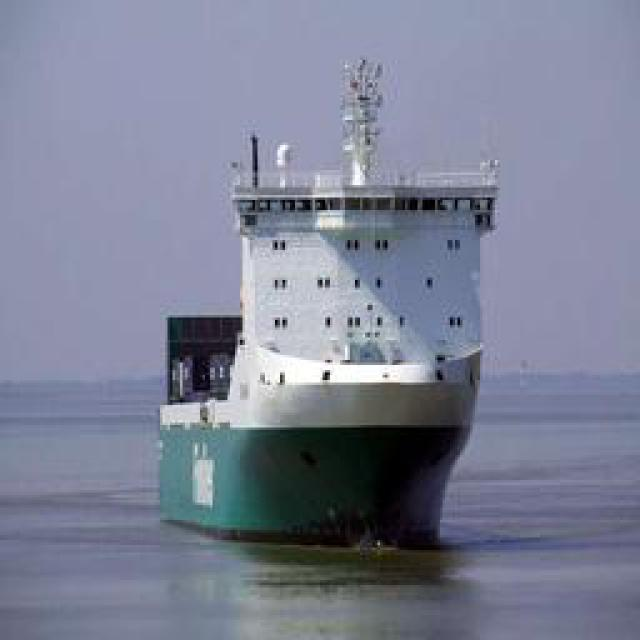Ship: (160, 41, 498, 554)
